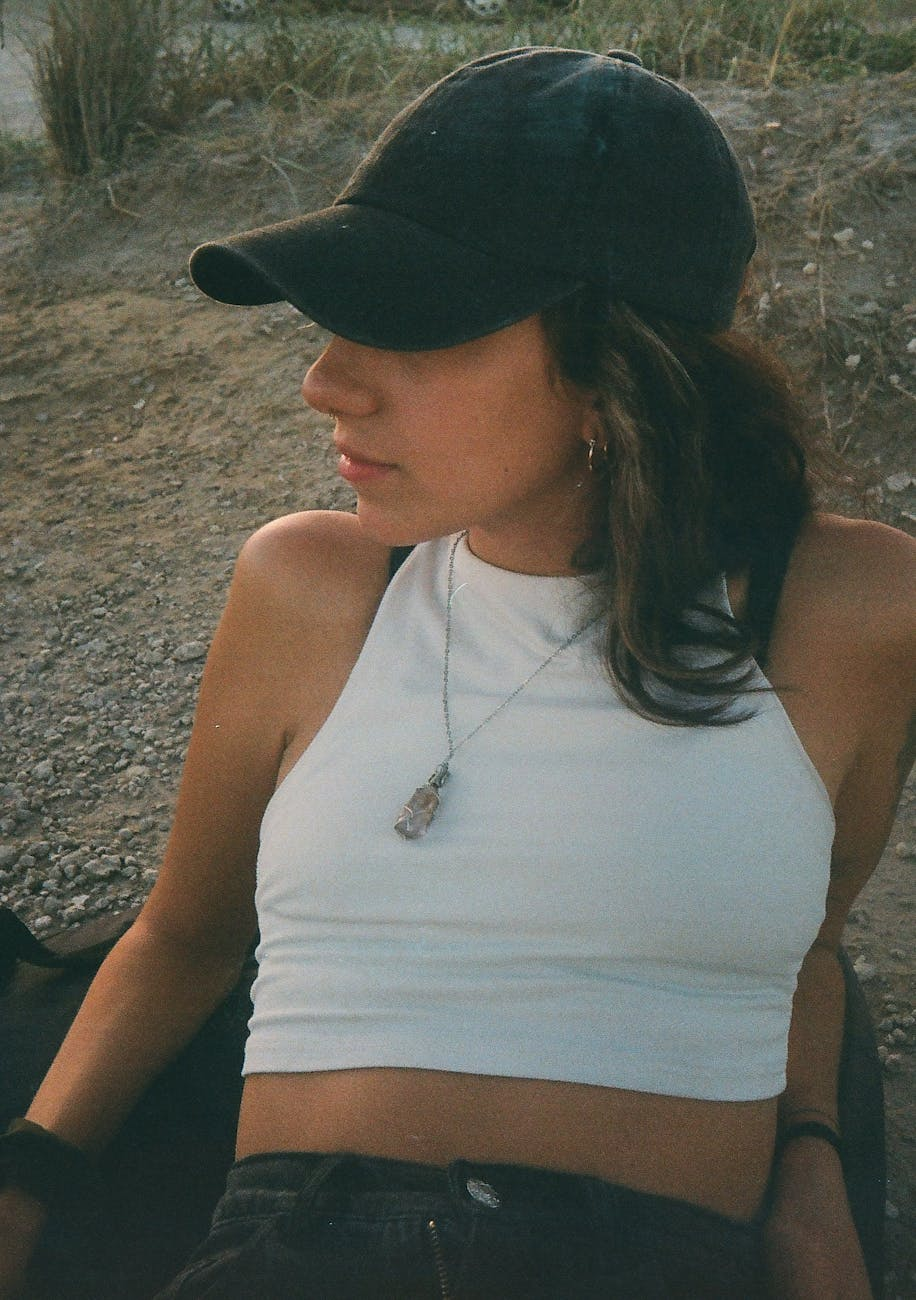crop_top: (220, 503, 875, 1117)
